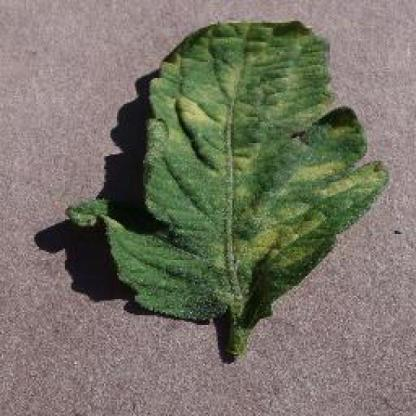Tomato_Leaf_Mold: (68, 22, 389, 322)
